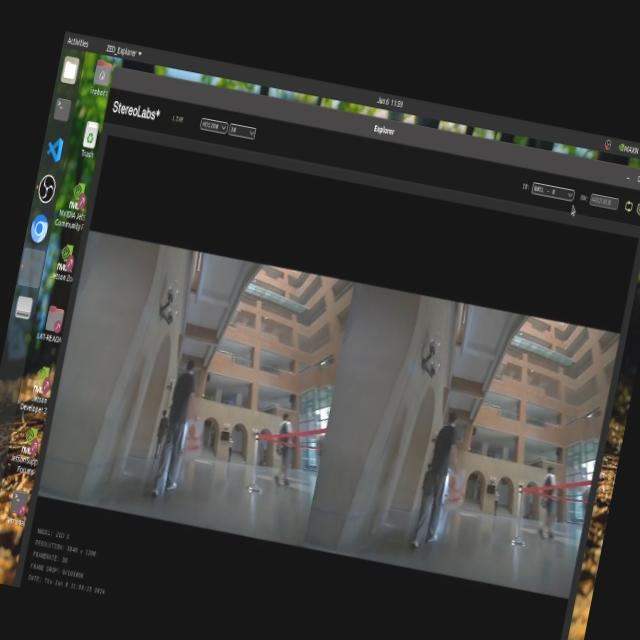red: (443, 476, 469, 514), (182, 426, 206, 461)
